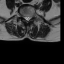CCS_stenosis: (26, 15, 28, 22)
LFS_normal: (30, 14, 32, 20)
LLS_normal: (28, 15, 30, 21)
RFS_normal: (22, 13, 24, 20)
RLS_normal: (24, 14, 26, 21)
